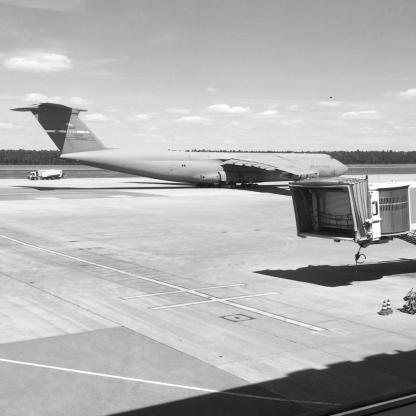C5: (10, 104, 349, 190)
